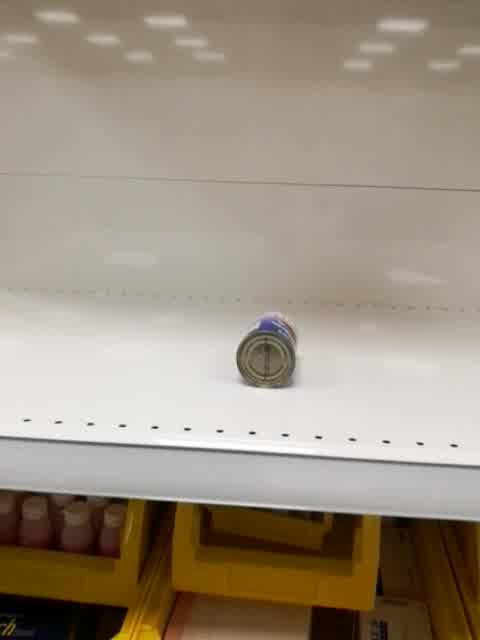sardine: (236, 311, 299, 390)
